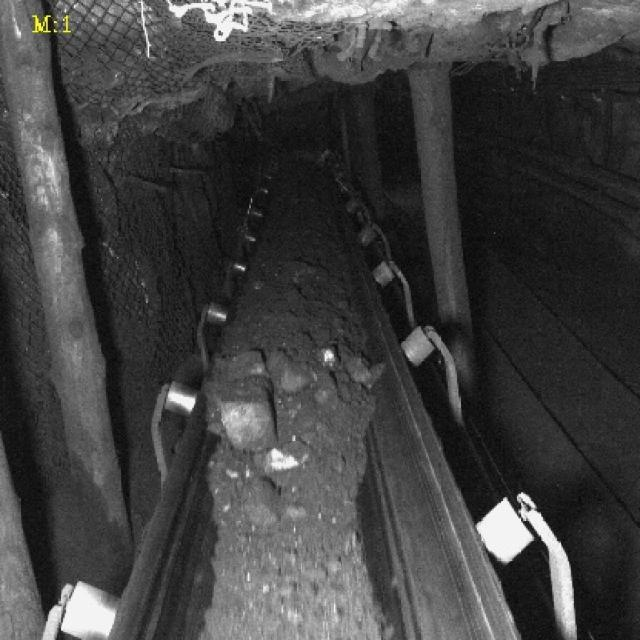large_sized_coal: (217, 378, 275, 454), (275, 360, 340, 405), (262, 437, 316, 475), (219, 349, 266, 382)
